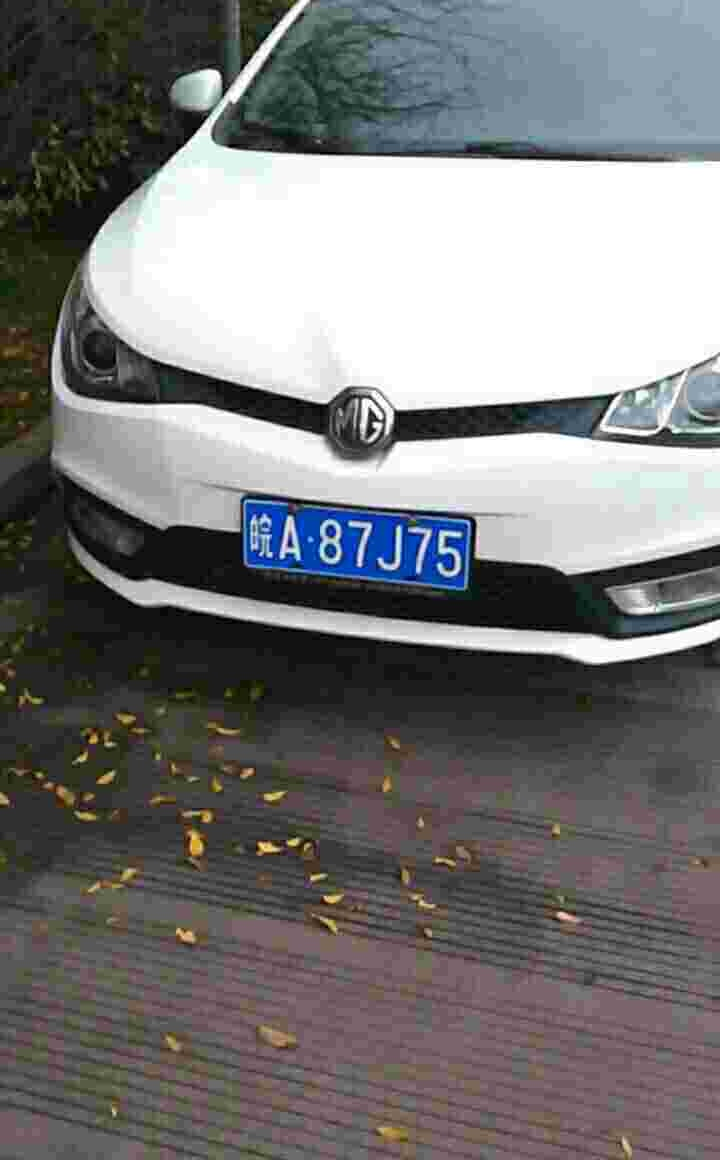license_plate: (248, 501, 477, 597)
